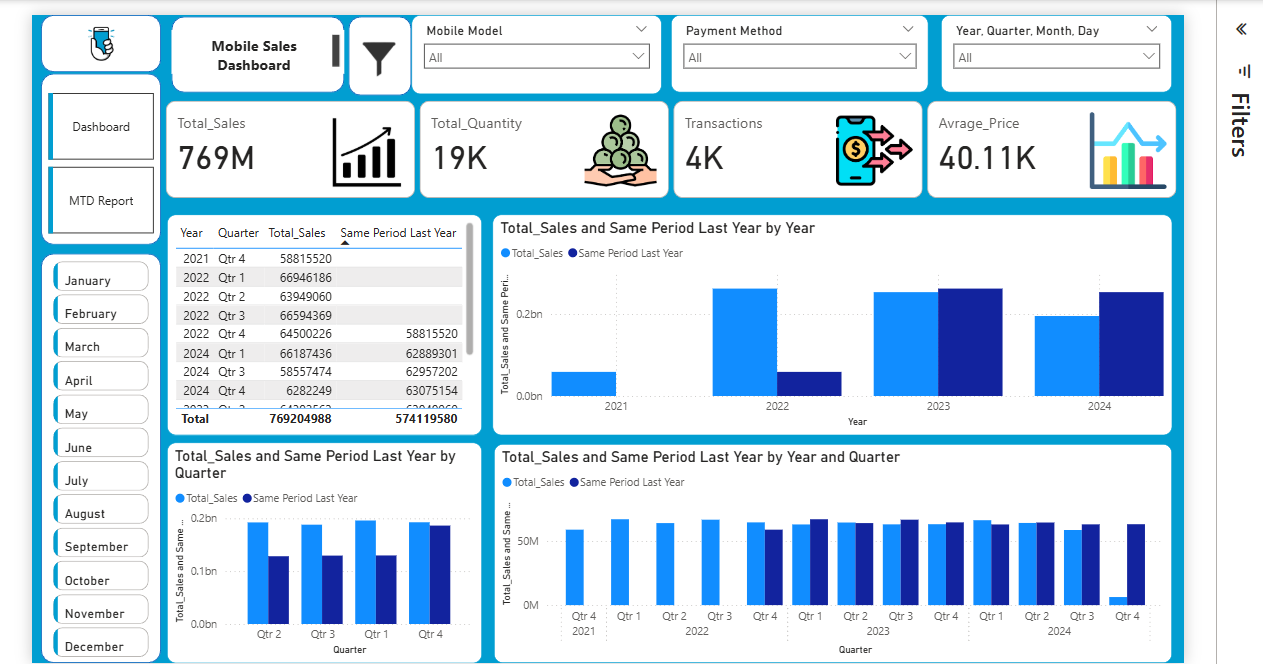

The dashboard page shown, as its layout file describes it:
{"tool":"powerbi","page":{"name":"Same Period Last Year","canvas":[1280,720],"ordinal":2},"visuals":[{"type":"shape","box":[9.8,0,133.4,63.4],"z":0},{"type":"image","box":[17.9,1.6,117.1,63.4],"z":1000},{"type":"shape","box":[9.8,65.1,133.4,190.3],"z":2000},{"type":"cardVisual","fields":{"Data":["Mobile_Sales Data.Total_Sales","Mobile_Sales Data.Total_Quantity","Mobile_Sales Data.Transactions","Mobile_Sales Data.Avrage_Price"]},"box":[143.1,89.5,1137,129],"z":3000},{"type":"slicer","fields":{"Values":["Mobile_Sales Data.Mobile Model"]},"box":[421.3,0,278.1,87.8],"z":4000},{"type":"slicer","fields":{"Values":["Mobile_Sales Data.Payment Method"]},"box":[710.8,0,286.3,86.2],"z":5000},{"type":"slicer","fields":{"Values":["Custom_Calander.Date.Variation.Date Hierarchy.Year","Custom_Calander.Date.Variation.Date Hierarchy.Quarter","Custom_Calander.Date.Variation.Date Hierarchy.Month","Custom_Calander.Date.Variation.Date Hierarchy.Day"]},"box":[1010.1,0,257,86.2],"z":6000},{"type":"shape","box":[351.3,1.6,69.9,87.8],"z":7000},{"type":"image","box":[346.5,16.3,78.1,69.9],"z":8000},{"type":"shape","box":[154.5,1.6,191.9,84.6],"z":9000},{"type":"textbox","box":[154.5,16.3,191.9,48.8],"z":10000},{"type":"shape","box":[10,265,133.3,455],"z":11000},{"type":"advancedSlicerVisual","fields":{"Values":["Custom_Calander.Date.Variation.Date Hierarchy.Month"]},"box":[10,265,116.7,455],"z":12000},{"type":"tableEx","fields":{"Values":["Custom_Calander.Date.Variation.Date Hierarchy.Year","Custom_Calander.Date.Variation.Date Hierarchy.Quarter","Mobile_Sales Data.Total_Sales","Mobile_Sales Data.Same Period Last Year"]},"box":[150,221.7,350,245],"z":13000},{"type":"clusteredColumnChart","fields":{"Category":["Custom_Calander.Date.Variation.Date Hierarchy.Year","Custom_Calander.Date.Variation.Date Hierarchy.Quarter"],"Y":["Mobile_Sales Data.Total_Sales","Mobile_Sales Data.Same Period Last Year"]},"box":[511.7,221.7,755,245],"z":14000},{"type":"clusteredColumnChart","fields":{"Y":["Mobile_Sales Data.Total_Sales","Mobile_Sales Data.Same Period Last Year"],"Category":["Custom_Calander.Date.Variation.Date Hierarchy.Year","Custom_Calander.Date.Variation.Date Hierarchy.Quarter","Custom_Calander.Date.Variation.Date Hierarchy.Month","Custom_Calander.Date.Variation.Date Hierarchy.Day"]},"box":[513.3,476.7,753.3,243.3],"z":15000},{"type":"clusteredColumnChart","fields":{"Category":["Custom_Calander.Date.Variation.Date Hierarchy.Year","Custom_Calander.Date.Variation.Date Hierarchy.Quarter"],"Y":["Mobile_Sales Data.Total_Sales","Mobile_Sales Data.Same Period Last Year"]},"box":[150,475,350,245],"z":16000},{"type":"pageNavigator","box":[18.4,86.2,117.2,156.3],"z":17000}]}

Visuals, with their boxes on the page's 1280x720 design canvas (x1, y1, x2, y2). These are canvas units, not pixel positions in the 1263x664 screenshot, which may show the page scaled, cropped or inside an application window:
shape: x1=10, y1=0, x2=143, y2=63
image: x1=18, y1=2, x2=135, y2=65
shape: x1=10, y1=65, x2=143, y2=255
cardVisual - Mobile_Sales Data.Total_Sales x Mobile_Sales Data.Total_Quantity: x1=143, y1=90, x2=1280, y2=218
slicer - Mobile_Sales Data.Mobile Model: x1=421, y1=0, x2=699, y2=88
slicer - Mobile_Sales Data.Payment Method: x1=711, y1=0, x2=997, y2=86
slicer - Custom_Calander.Date.Variation.Date Hierarchy.Year x Custom_Calander.Date.Variation.Date Hierarchy.Quarter: x1=1010, y1=0, x2=1267, y2=86
shape: x1=351, y1=2, x2=421, y2=89
image: x1=346, y1=16, x2=425, y2=86
shape: x1=154, y1=2, x2=346, y2=86
textbox: x1=154, y1=16, x2=346, y2=65
shape: x1=10, y1=265, x2=143, y2=720
advancedSlicerVisual - Custom_Calander.Date.Variation.Date Hierarchy.Month: x1=10, y1=265, x2=127, y2=720
tableEx - Custom_Calander.Date.Variation.Date Hierarchy.Year x Custom_Calander.Date.Variation.Date Hierarchy.Quarter: x1=150, y1=222, x2=500, y2=467
clusteredColumnChart - Custom_Calander.Date.Variation.Date Hierarchy.Year x Custom_Calander.Date.Variation.Date Hierarchy.Quarter: x1=512, y1=222, x2=1267, y2=467
clusteredColumnChart - Mobile_Sales Data.Total_Sales x Mobile_Sales Data.Same Period Last Year: x1=513, y1=477, x2=1267, y2=720
clusteredColumnChart - Custom_Calander.Date.Variation.Date Hierarchy.Year x Custom_Calander.Date.Variation.Date Hierarchy.Quarter: x1=150, y1=475, x2=500, y2=720
pageNavigator: x1=18, y1=86, x2=136, y2=242
